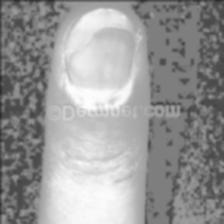Toxin: (50, 39, 158, 100), (47, 119, 143, 165)
